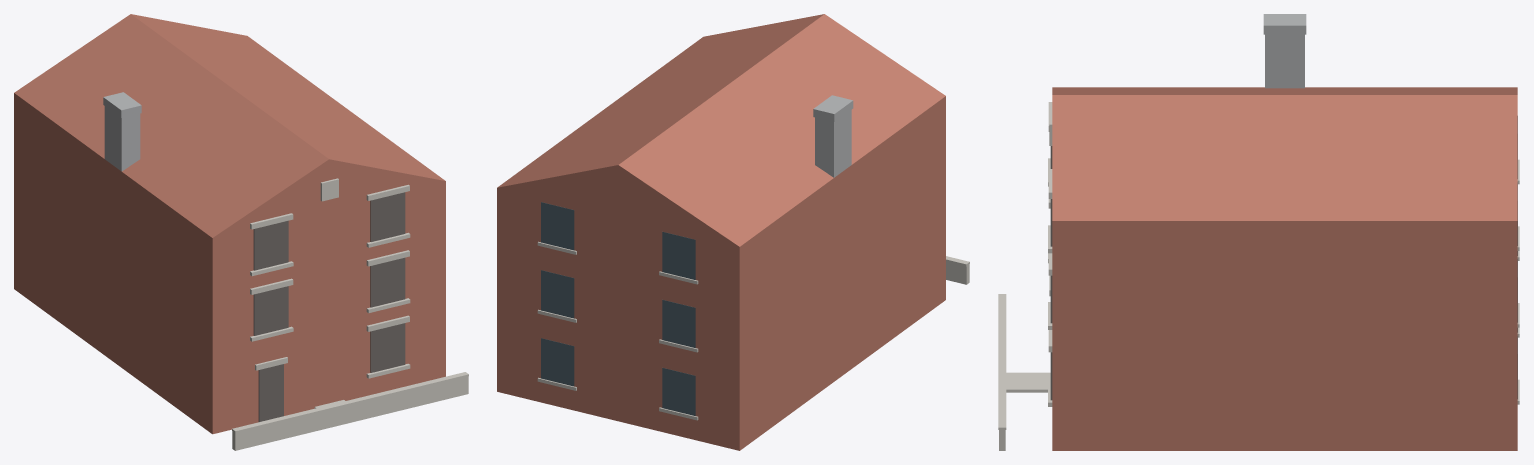
Rendered from terrace_m2.glb.
The picture shows the model from 3 angles, left to right: view 1: azimuth 30°, elevation 25°; view 2: azimuth 150°, elevation 25°; view 3: azimuth 270°, elevation 25°; orthographic projection. The views are drawn at different scales.
Visible parts, largest first — view 1: terrace_m2; view 2: terrace_m2; view 3: terrace_m2.
Part boxes in pixels (bbox=[...]): terrace_m2: bbox=[14, 14, 468, 450]; terrace_m2: bbox=[497, 14, 969, 450]; terrace_m2: bbox=[998, 14, 1519, 450].
Bounding box in the file's own units: 9.5 × 10 × 15.6.
